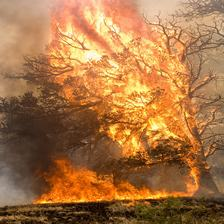fire: (50, 8, 213, 203)
